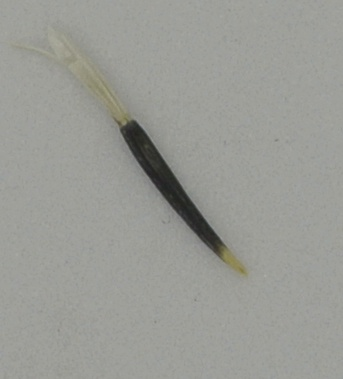เมล็ดดีเรียวยาว: (12, 24, 249, 280)
